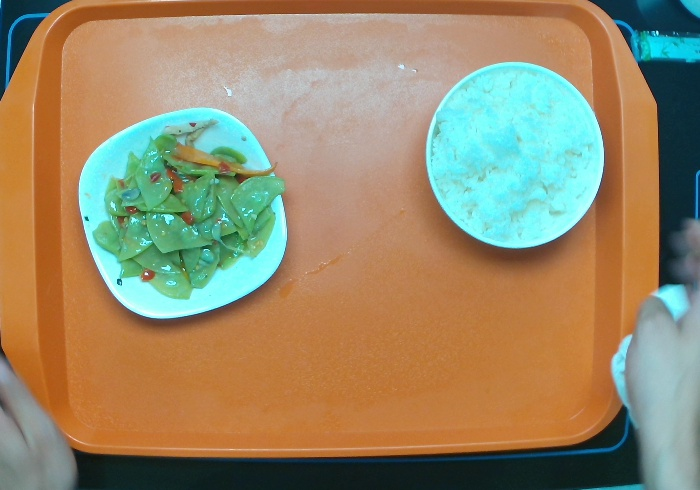ZNLD-Fan_Wan: (423, 59, 605, 250)
ZNLD-Si_Fang_Wan: (76, 105, 288, 321)
